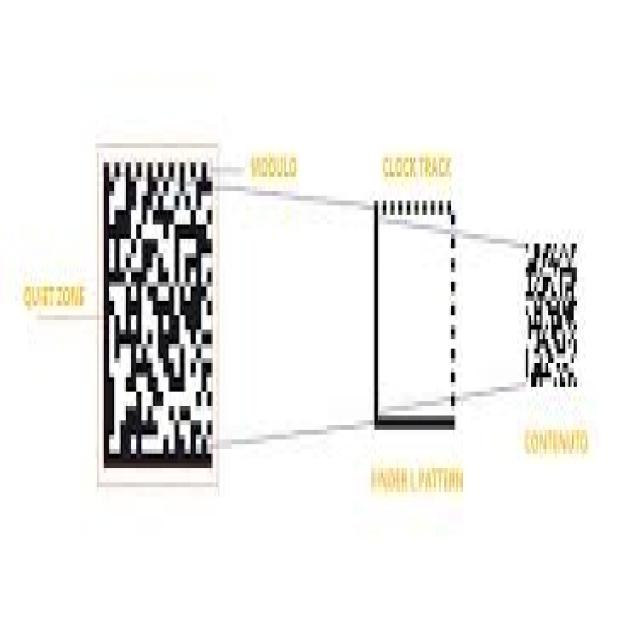datamatrix: (101, 148, 216, 482), (371, 191, 460, 444), (522, 229, 578, 392)
